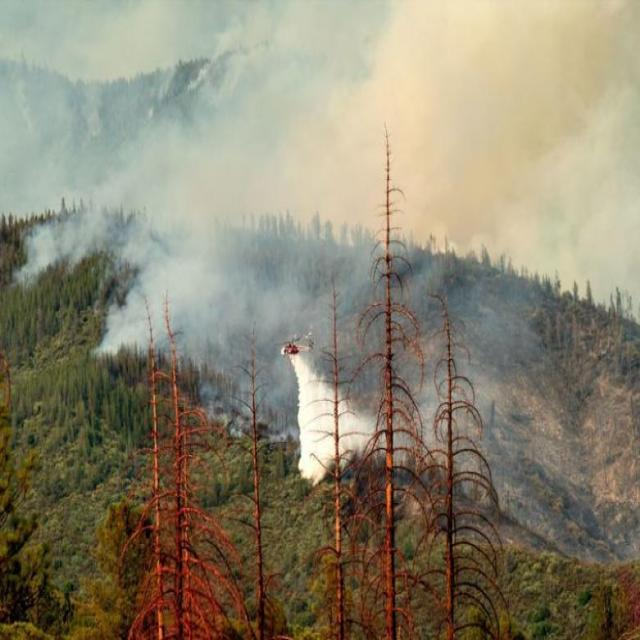Smoke: (2, 80, 312, 384), (362, 12, 624, 271)
